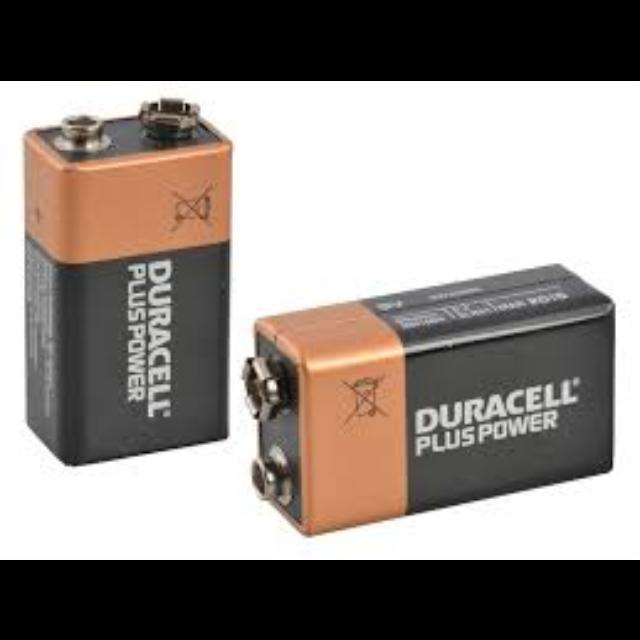Battery: (22, 97, 235, 468)
